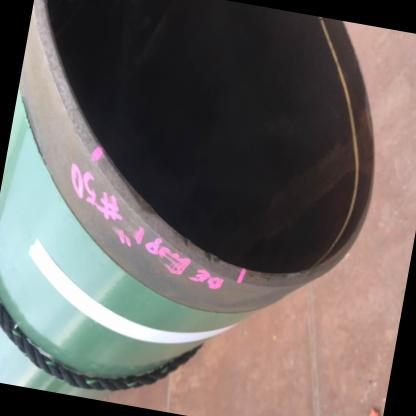Bevel: (172, 226, 228, 275)
